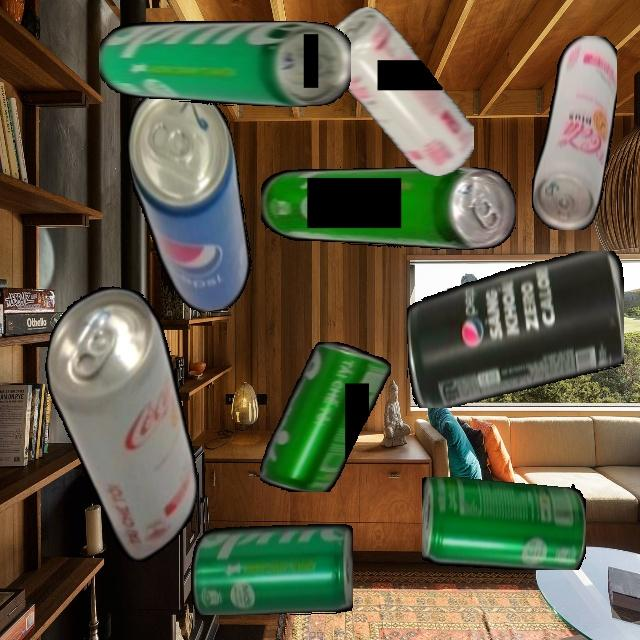debris: (15, 278, 229, 569), (117, 77, 261, 320), (406, 250, 624, 408), (320, 7, 474, 176), (98, 21, 351, 107), (260, 167, 516, 250), (260, 341, 391, 492), (531, 35, 617, 230), (421, 476, 586, 570), (190, 523, 353, 615)
